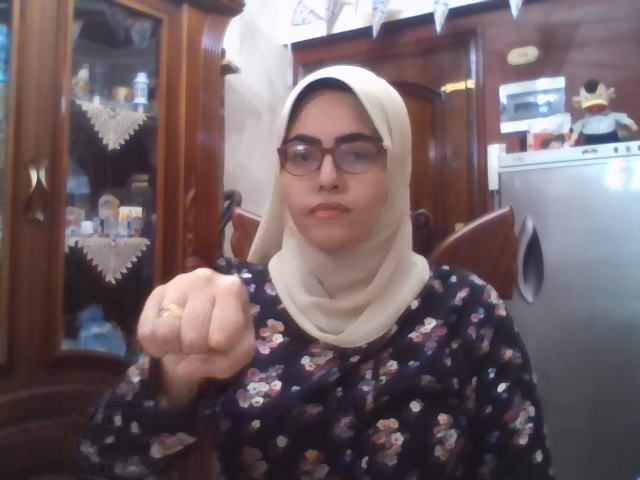yes: (138, 268, 255, 379)
